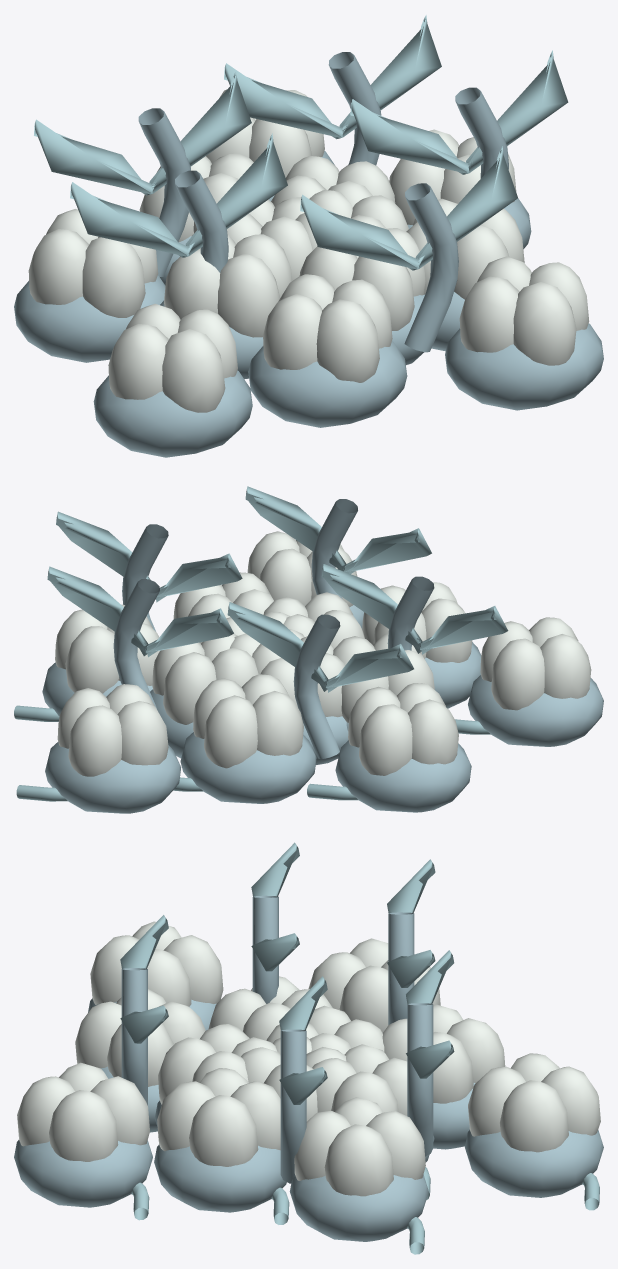
The model's file is bio_oxygen_reef_17_far.glb.
3 views of the same model, one above another, from view 1: azimuth 30°, elevation 25°; view 2: azimuth 150°, elevation 25°; view 3: azimuth 270°, elevation 25° (orthographic). The views are drawn at different scales.
Visible parts, largest first — view 1: Lobed gas sac.040, Lobed gas sac.028, Lobed gas sac.048, Lobed gas sac.036, Lobed gas sac.016, Photosynthetic cushion.007, Photosynthetic cushion.012, Photosynthetic cushion.010, Secondary fan lobe.004, Secondary fan lobe.002, Secondary fan lobe.008, Secondary fan lobe (+19 smaller); view 2: Lobed gas sac.024, Lobed gas sac.036, Lobed gas sac.044, Lobed gas sac.048, Photosynthetic cushion.011, Photosynthetic cushion.012, Photosynthetic cushion.006, Photosynthetic cushion.009, Lobed gas sac.012, Lobed gas sac.032, Secondary fan lobe.006, Secondary fan lobe.002 (+22 smaller); view 3: Lobed gas sac.044, Lobed gas sac.040, Lobed gas sac.032, Lobed gas sac.020, Lobed gas sac.048, Photosynthetic cushion.011, Photosynthetic cushion.010, Photosynthetic cushion.008, Photosynthetic cushion.005, Lobed gas sac.024, Lobed gas sac.028, Lobed gas sac.036 (+16 smaller).
Part boxes in pixels (x1,y1,x2,y2): Lobed gas sac.040: (459, 256, 589, 365); Lobed gas sac.028: (263, 274, 392, 382); Lobed gas sac.048: (108, 303, 237, 412); Lobed gas sac.036: (28, 209, 158, 317); Lobed gas sac.016: (164, 234, 292, 337); Photosynthetic cushion.007: (248, 340, 407, 427); Photosynthetic cushion.012: (93, 370, 252, 457); Photosynthetic cushion.010: (445, 323, 603, 410); Secondary fan lobe.004: (300, 146, 517, 270); Secondary fan lobe.002: (34, 71, 251, 195); Secondary fan lobe.008: (70, 133, 287, 257); Secondary fan lobe: (350, 50, 568, 174); Lobed gas sac.024: (193, 674, 303, 768); Lobed gas sac.036: (348, 683, 458, 775); Lobed gas sac.044: (57, 684, 168, 776); Lobed gas sac.048: (480, 617, 591, 710); Photosynthetic cushion.011: (45, 742, 181, 813); Photosynthetic cushion.012: (468, 675, 603, 746); Photosynthetic cushion.006: (180, 732, 316, 803); Photosynthetic cushion.009: (335, 740, 471, 812); Lobed gas sac.012: (152, 634, 258, 724); Lobed gas sac.032: (55, 604, 159, 693); Secondary fan lobe.006: (47, 566, 233, 657); Secondary fan lobe.002: (227, 602, 413, 692); Lobed gas sac.044: (468, 1053, 600, 1152); Lobed gas sac.040: (17, 1062, 149, 1161); Lobed gas sac.032: (294, 1097, 425, 1196); Lobed gas sac.020: (157, 1068, 280, 1166); Lobed gas sac.048: (90, 921, 223, 1006); Photosynthetic cushion.011: (465, 1130, 603, 1197); Photosynthetic cushion.010: (14, 1140, 152, 1207); Photosynthetic cushion.008: (289, 1174, 428, 1241); Photosynthetic cushion.005: (154, 1145, 286, 1212); Lobed gas sac.024: (382, 1004, 505, 1103); Lobed gas sac.028: (75, 989, 205, 1086); Lobed gas sac.036: (308, 938, 440, 1032).
Bounding box in the file's own units: 2 × 0.7649 × 2.03.
